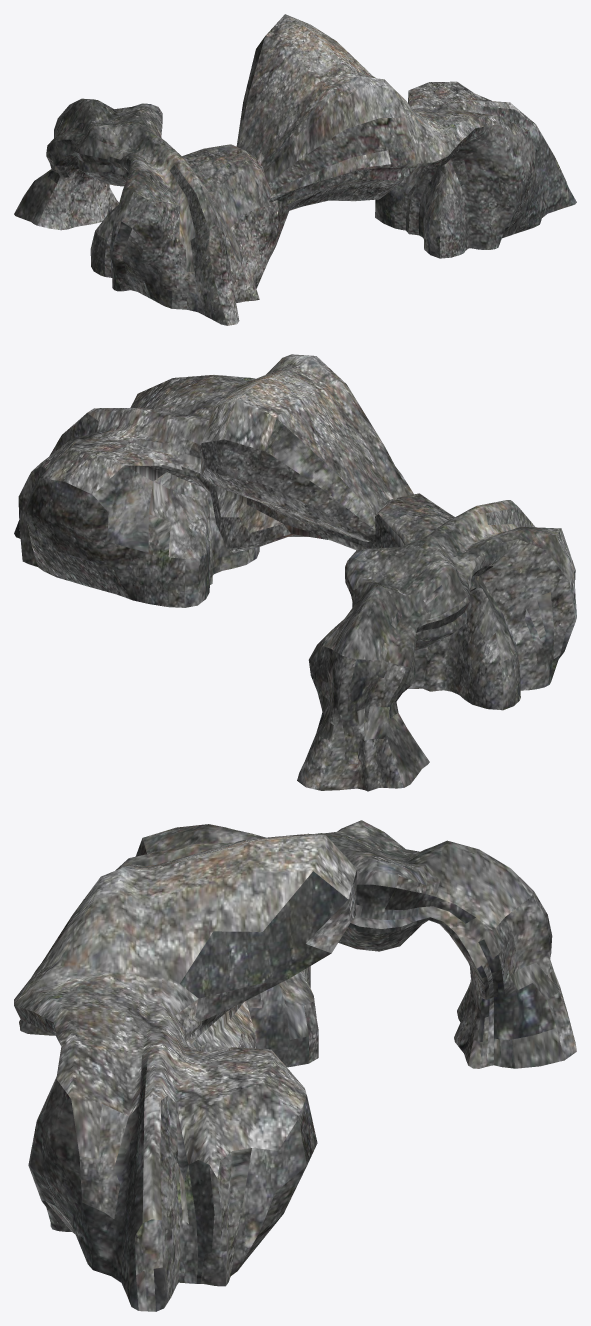
Rendered from rock.fbx.
The picture shows the model from 3 angles, top to bottom: view 1: azimuth 30°, elevation 25°; view 2: azimuth 150°, elevation 25°; view 3: azimuth 270°, elevation 25°; orthographic projection. The views are drawn at different scales.
Parts seen in each view (by area): view 1: Rock_1; view 2: Rock_1; view 3: Rock_1.
Part boxes in pixels (box(x1,y1,x2,y2)): Rock_1: box(14, 14, 576, 325); Rock_1: box(14, 354, 576, 791); Rock_1: box(14, 820, 576, 1311).
Bounding box in the file's own units: 44.29 × 19.77 × 31.4.
